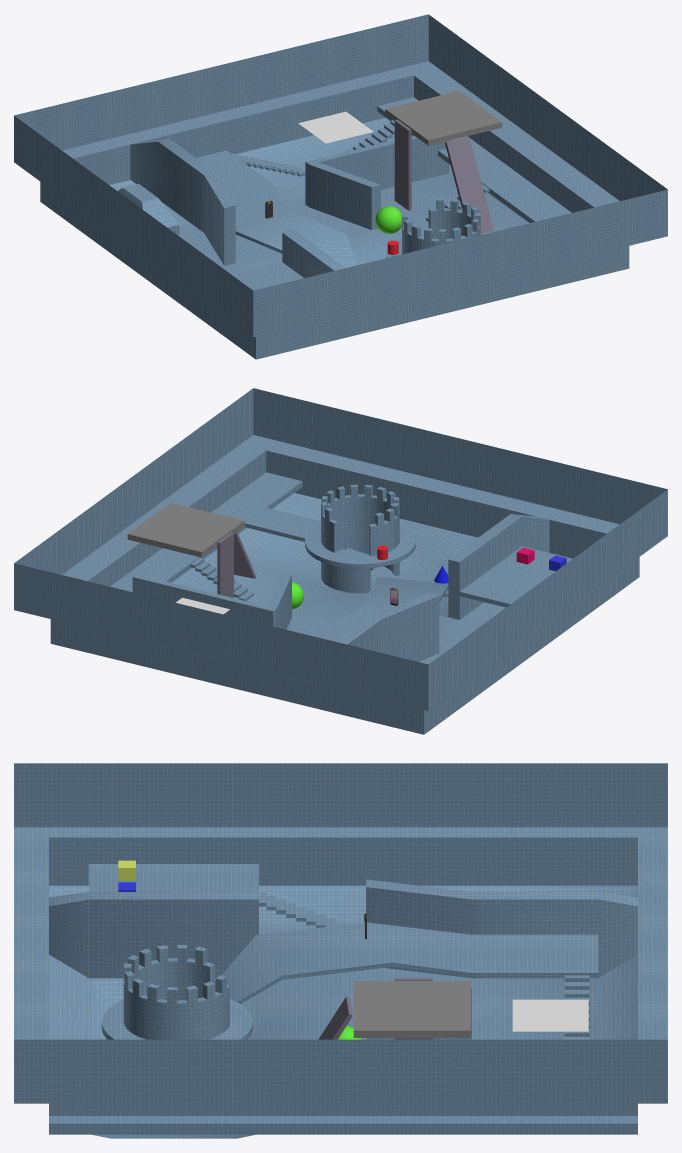
Rendered from Snap World 2.glb.
3 renders of one model, top to bottom at view 1: azimuth 30°, elevation 25°; view 2: azimuth 150°, elevation 25°; view 3: azimuth 270°, elevation 25°, orthographic. The views are drawn at different scales.
Visible parts, largest first — view 1: Cube.004, Cube.003, Cube_ladder.001, Cube_ladder, Plane, interactive_Sphere; view 2: Cube.004, Cube.003, Cube_ladder, Cube_ladder.001; view 3: Cube.004, Cube.003, Plane, Cube_ladder.001.
Boxes of the visible parts, x1=… form: Cube.004: x1=14, y1=14, x2=667, y2=359; Cube.003: x1=385, y1=91, x2=502, y2=145; Cube_ladder.001: x1=445, y1=136, x2=493, y2=233; Cube_ladder: x1=394, y1=119, x2=411, y2=210; Plane: x1=298, y1=111, x2=373, y2=143; interactive_Sphere: x1=375, y1=206, x2=401, y2=233; Cube.004: x1=14, y1=388, x2=667, y2=734; Cube.003: x1=127, y1=503, x2=244, y2=557; Cube_ladder: x1=217, y1=532, x2=233, y2=597; Cube_ladder.001: x1=234, y1=532, x2=256, y2=578; Cube.004: x1=14, y1=763, x2=667, y2=1138; Cube.003: x1=353, y1=981, x2=470, y2=1037; Plane: x1=512, y1=999, x2=588, y2=1031; Cube_ladder.001: x1=318, y1=996, x2=352, y2=1039.
Bounding box in the file's own units: 34.36 × 8.6 × 34.36.
Materials: 11 (2 with a texture image).
